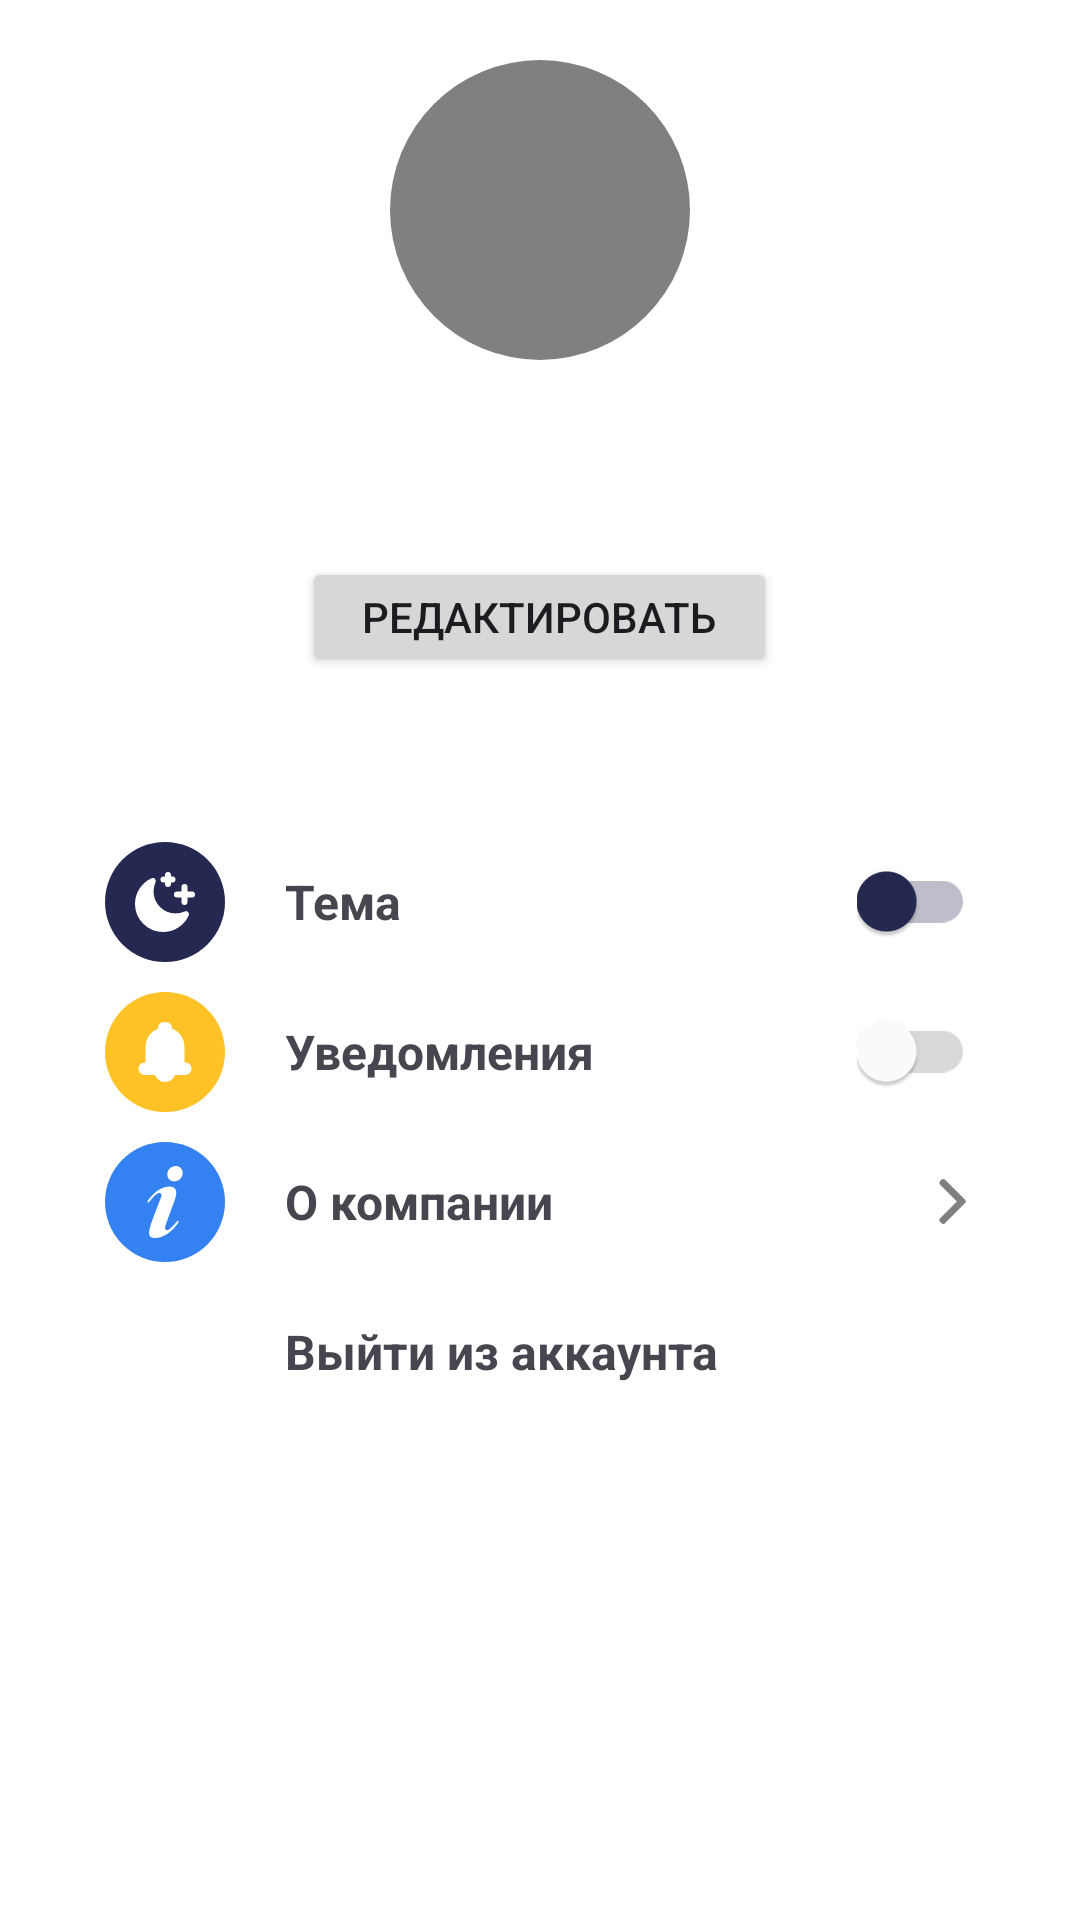

Point at icon controls on the screen. Image size 1080w x 1920h, points as point (x, y).
information: point (165, 1202)
night theme: point (165, 902)
notification: point (165, 1052)
right arrow: point (952, 1201)
